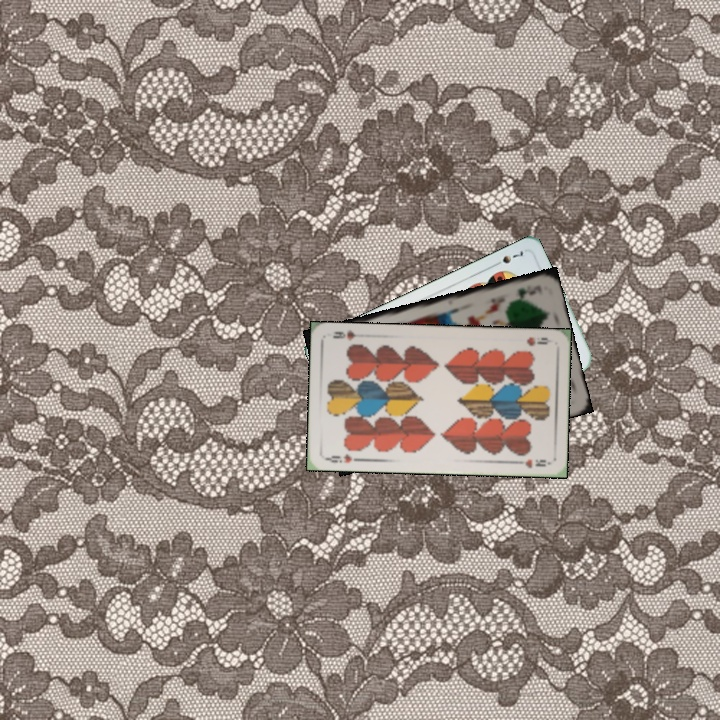GK: (514, 284, 539, 300)
H9: (322, 450, 354, 465), (523, 333, 550, 348)
S7: (489, 247, 526, 269)
